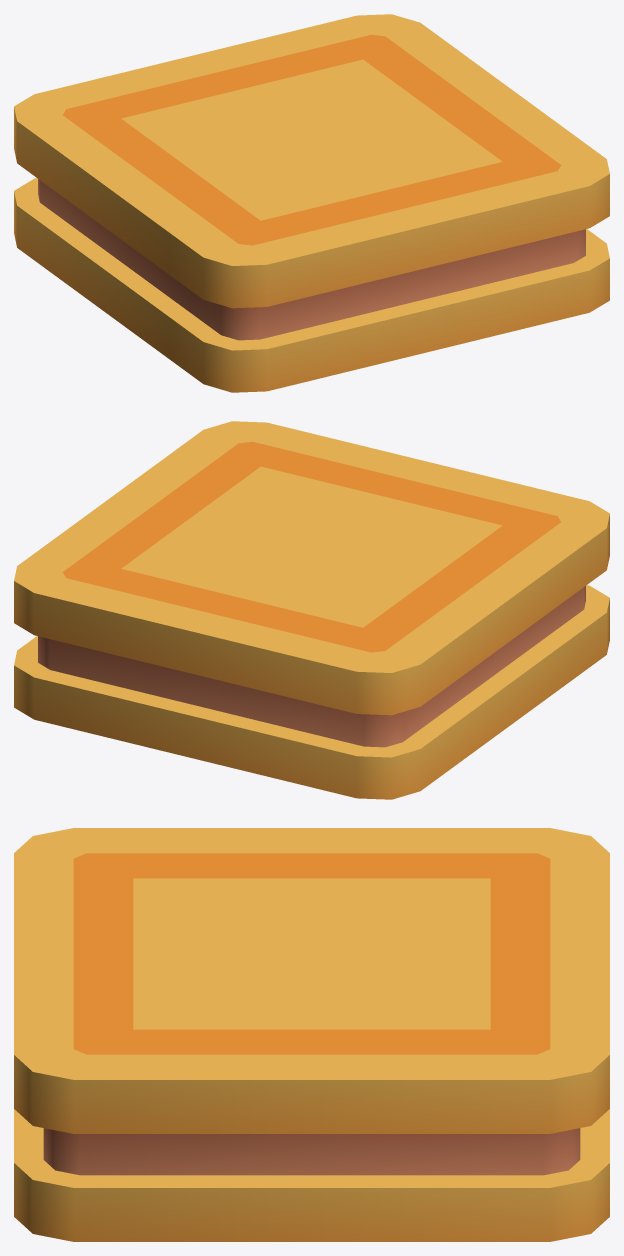
The model's file is block_moving.glb.
3 renders of one model, top to bottom at view 1: azimuth 30°, elevation 25°; view 2: azimuth 150°, elevation 25°; view 3: azimuth 270°, elevation 25°, orthographic. The views are drawn at different scales.
Parts seen in each view (by area): view 1: block-moving; view 2: block-moving; view 3: block-moving.
Boxes of the visible parts, x1,y1,x2,y2 form: block-moving: (14, 14, 609, 392); block-moving: (14, 421, 609, 799); block-moving: (14, 828, 609, 1241).
Bounding box in the file's own units: 1 × 0.3 × 1.
1 material, 1 textured.
